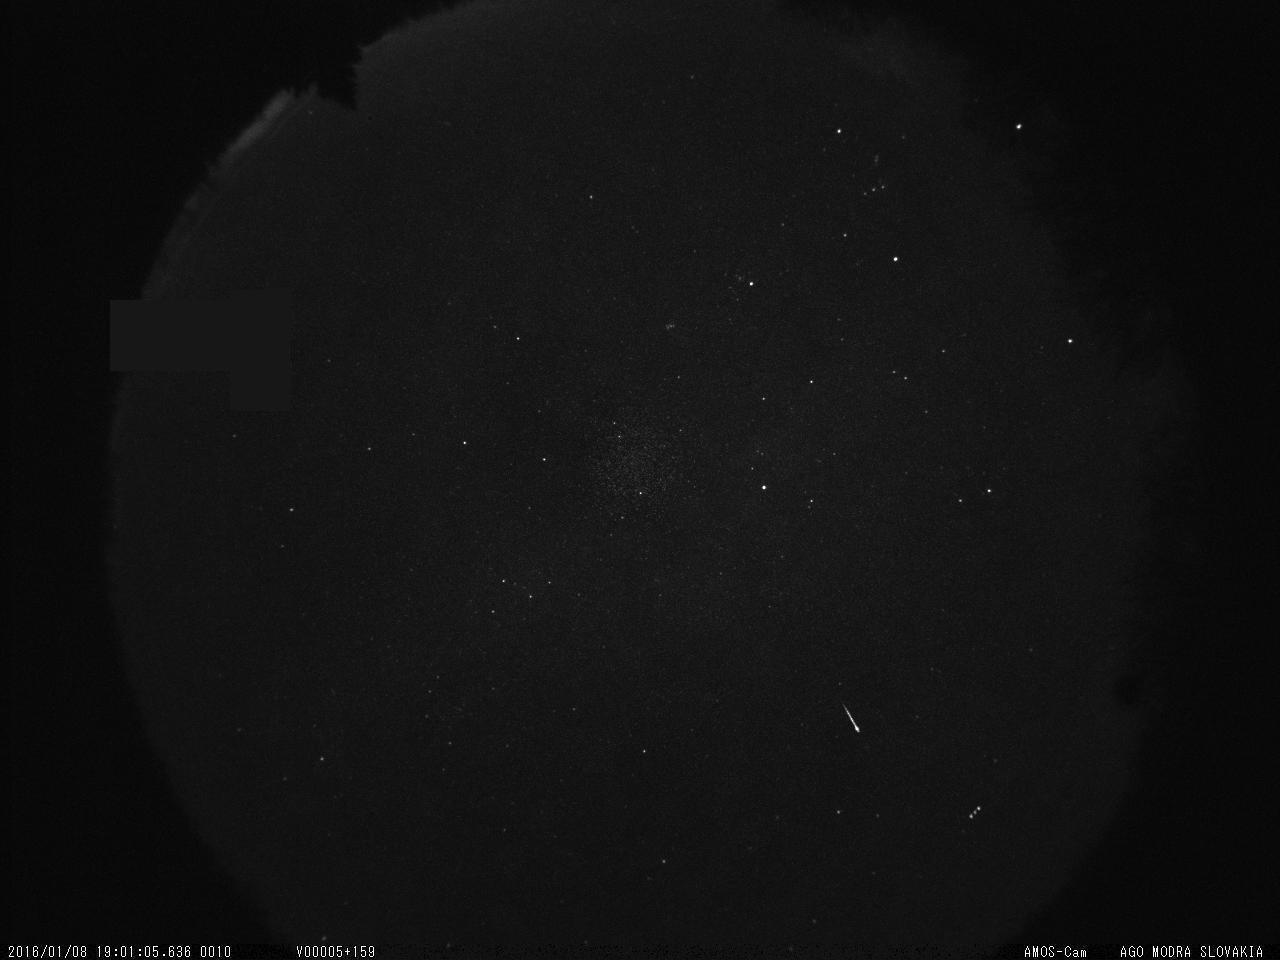Meteor: (838, 700, 866, 739)
